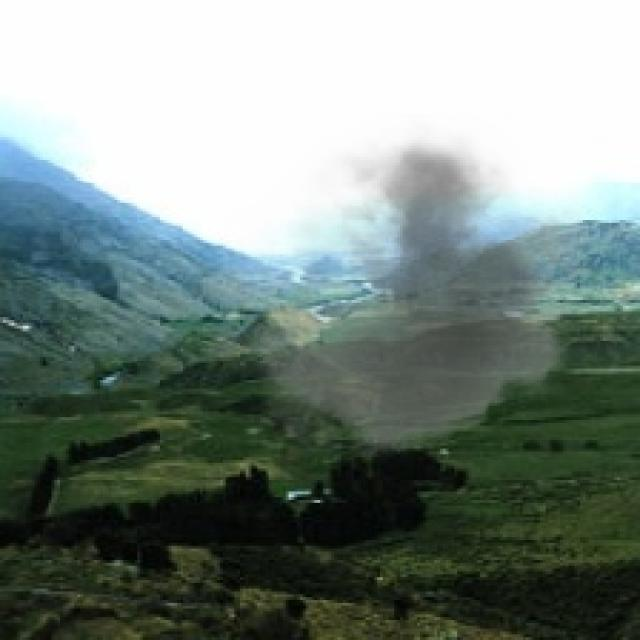smoke: (205, 114, 606, 472)
